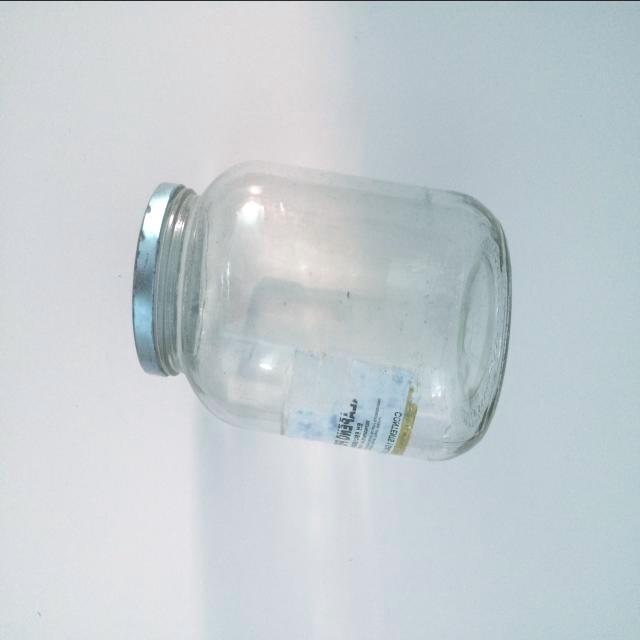glass: (127, 150, 518, 472)
